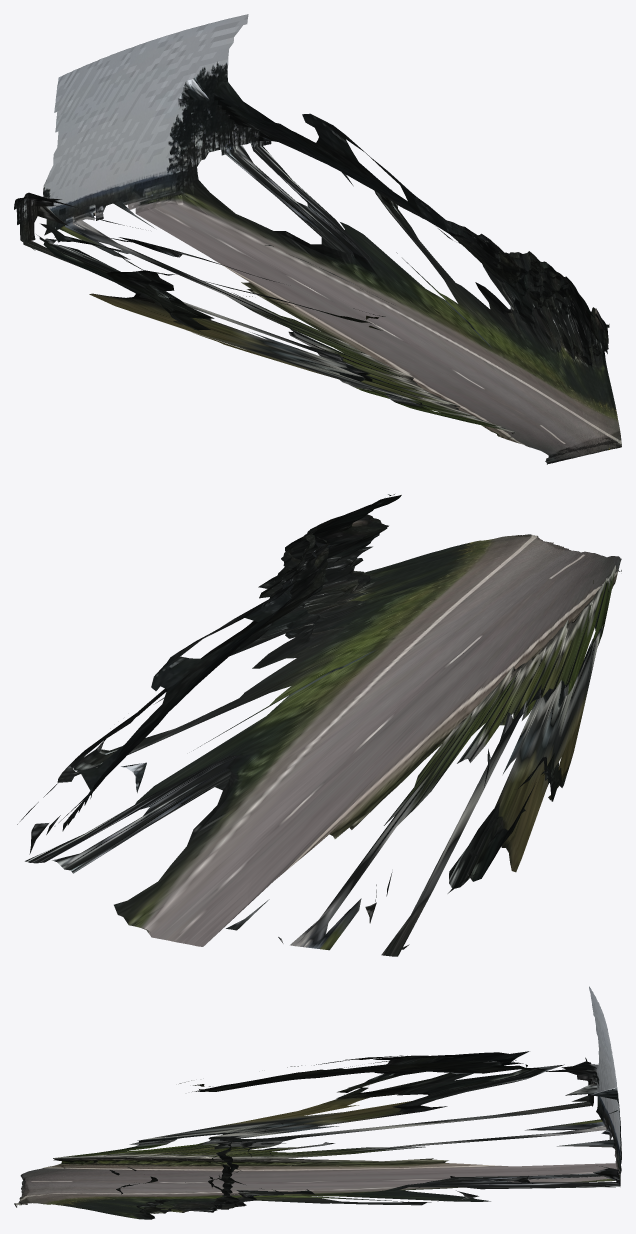
3 views of the same model, one above another, from view 1: azimuth 30°, elevation 25°; view 2: azimuth 150°, elevation 25°; view 3: azimuth 270°, elevation 25° (orthographic). The views are drawn at different scales.
Visible parts, largest first — view 1: defaultobject; view 2: defaultobject; view 3: defaultobject.
Boxes of the visible parts, bbox=[...] form: defaultobject: bbox=[14, 14, 621, 464]; defaultobject: bbox=[17, 494, 621, 956]; defaultobject: bbox=[14, 986, 621, 1219].
Size of the model in its own units: 23.87 by 11.78 by 44.69.
1 material, 1 textured.
